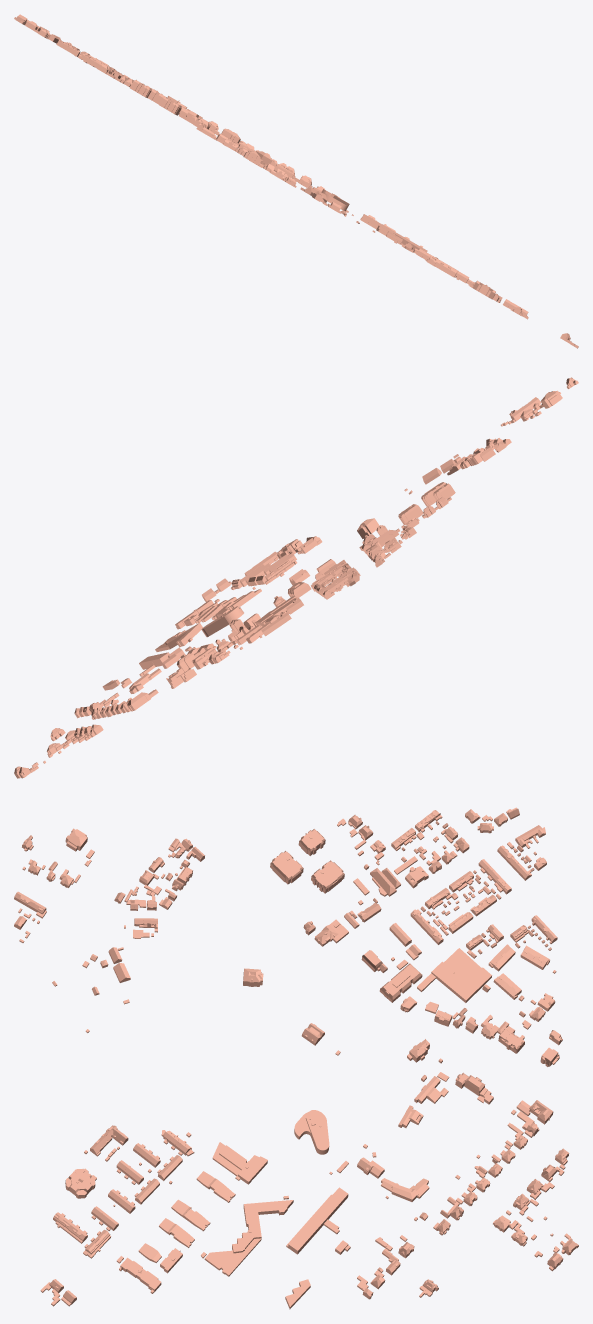
3 views of the same model, one above another, from view 1: azimuth 30°, elevation 25°; view 2: azimuth 150°, elevation 25°; view 3: azimuth 270°, elevation 25° (orthographic). The views are drawn at different scales.
Size of the model in its own units: 524 by 386 by 634.
